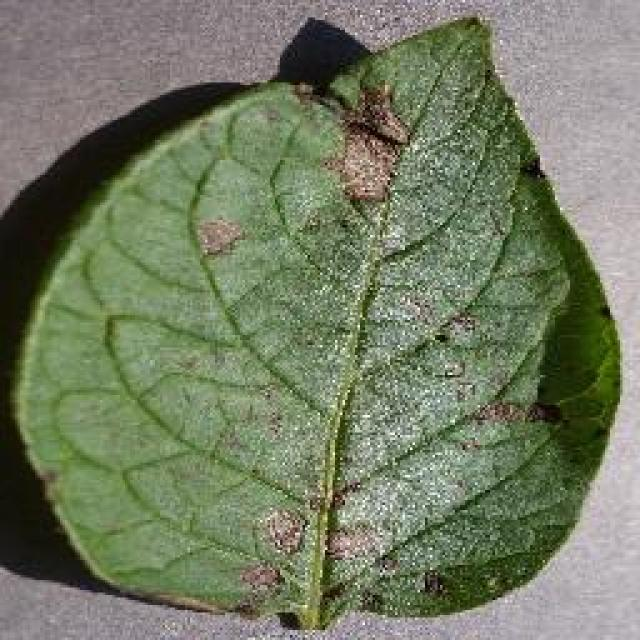early_blight: (5, 12, 625, 632)
